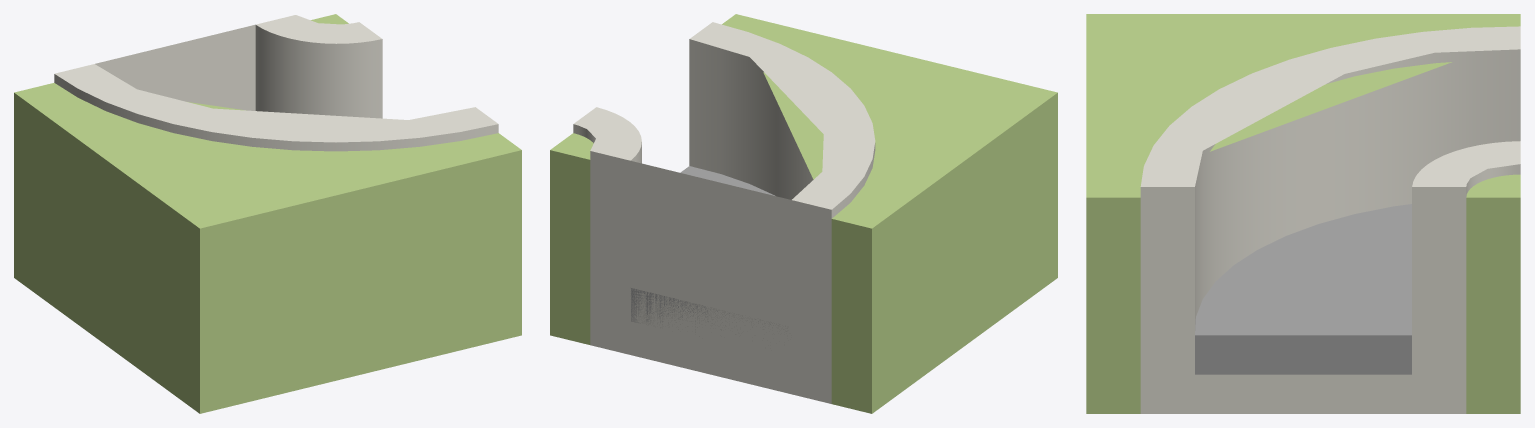
The model's file is roadTile_172.glb.
The picture shows the model from 3 angles, left to right: view 1: azimuth 30°, elevation 25°; view 2: azimuth 150°, elevation 25°; view 3: azimuth 270°, elevation 25°; orthographic projection. The views are drawn at different scales.
Visible parts, largest first — view 1: roadTile_172; view 2: roadTile_172; view 3: roadTile_172.
Part boxes in pixels (box(x1,y1,x2,y2)): roadTile_172: box(14, 14, 521, 413); roadTile_172: box(550, 14, 1057, 413); roadTile_172: box(1086, 14, 1520, 413).
Bounding box in the file's own units: 3 × 1.73 × 3.
